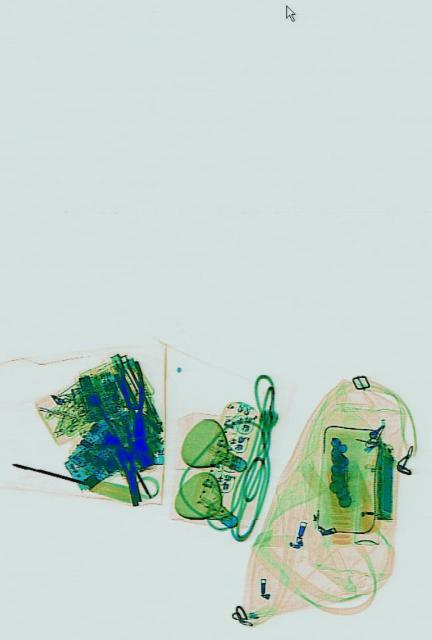Pliers: (115, 359, 151, 451)
